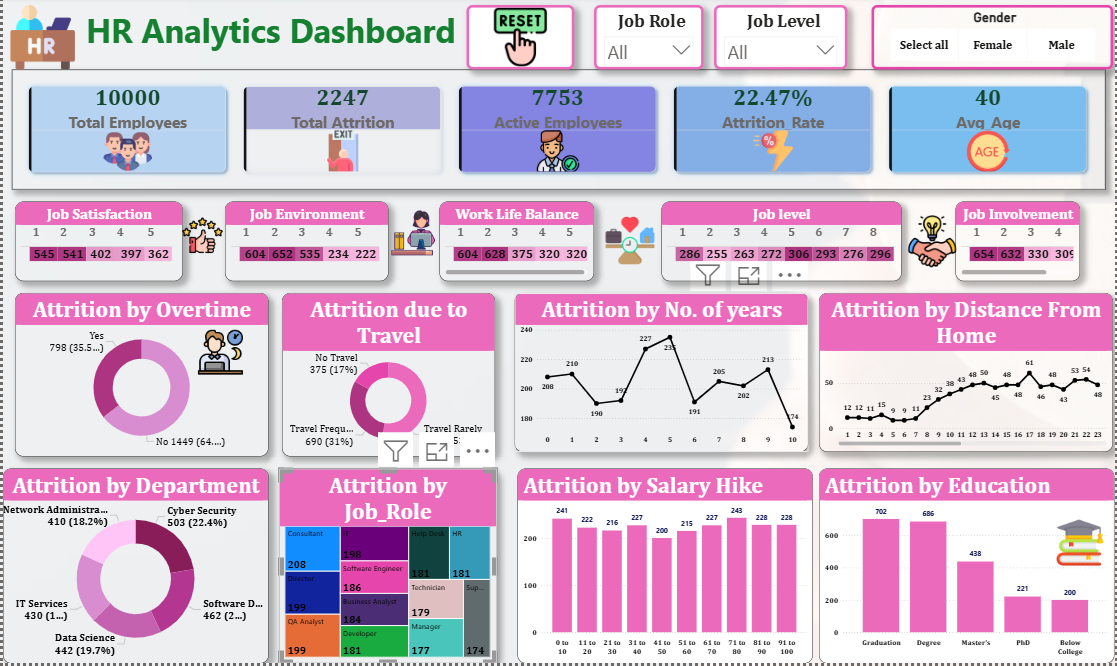

The dashboard page shown, as its layout file describes it:
{"tool":"powerbi","page":{"name":"Page 1","canvas":[2000,1200],"ordinal":0},"visuals":[{"type":"cardVisual","fields":{"Data":["CountNonNull(Employees.Employee_ID)","Employees.Attrition_YES","Employees.Attrition_NO","Employees.Attrition_Rate","Employees.Avg_Age"]},"box":[16.2,132.2,1967.4,215.9],"z":0},{"type":"donutChart","title":"Attrition by Department","fields":{"Category":["Employees.Department"],"Y":["Employees.Attrition_YES"]},"box":[0,850.1,477.7,350.8],"z":1000},{"type":"treemap","title":"Attrition by Job_Role","fields":{"Group":["Employees.Job_Role"],"Values":["Employees.Attrition_YES"]},"box":[496.6,850.1,391.3,350.8],"z":2000},{"type":"lineChart","title":"Attrition by Distance From Home","fields":{"Category":["Employees.Distance_From_Home"],"Y":["Employees.Attrition_YES"]},"box":[1468.1,534.3,528.9,286.1],"z":3000},{"type":"donutChart","title":"Attrition by Overtime","fields":{"Category":["Employees.Overtime"],"Y":["Employees.Attrition_YES"]},"box":[21.6,534.3,456.1,294.2],"z":4000},{"type":"pivotTable","title":"Job Satisfaction","fields":{"Columns":["Employees.Job_Satisfaction"],"Values":["Employees.Attrition_YES"]},"box":[21.6,369.7,302.3,143],"z":5000},{"type":"pivotTable","title":"Job Environment","fields":{"Values":["Employees.Attrition_YES"],"Columns":["Employees.Environemnt_Satisfaction"]},"box":[399.4,369.7,294.2,143],"z":6000},{"type":"pivotTable","title":"Work Life Balance","fields":{"Values":["Employees.Attrition_YES"],"Columns":["Employees.Work_life_balance"]},"box":[785.3,369.7,278,143],"z":7000},{"type":"lineChart","title":"Attrition by No. of  years","fields":{"Category":["Employees.No_of_years_in_current_role"],"Y":["Employees.Attrition_YES"]},"box":[920.3,534.3,528.9,286.1],"z":8000},{"type":"columnChart","title":"Attrition by Salary Hike","fields":{"Y":["Employees.Attrition_YES"],"Category":["Employees.Salary_Hike_in_percent (groups)"]},"box":[925.7,850.1,531.6,350.8],"z":9000},{"type":"columnChart","title":"Attrition by Education","fields":{"Y":["Employees.Attrition_YES"],"Category":["Employees.Education"]},"box":[1468.1,850.1,531.6,350.8],"z":10000},{"type":"pivotTable","title":"Job level","fields":{"Values":["Employees.Attrition_YES"],"Columns":["Employees.Job_Level"]},"box":[1184.7,369.7,431.8,143],"z":11000},{"type":"pivotTable","title":"Job Involvement","fields":{"Values":["Employees.Attrition_YES"],"Columns":["Employees.Job_Involvement"]},"box":[1713.7,369.7,224,143],"z":12000},{"type":"donutChart","title":"Attrition due to Travel ","fields":{"Y":["Employees.Attrition_YES"],"Category":["Employees.Business_Travel"]},"box":[502,534.3,383.2,294.2],"z":13000},{"type":"textbox","box":[97.2,16.2,769.1,94.5],"z":14000},{"type":"slicer","title":"Gender","fields":{"Values":["Employees.Gender"]},"box":[1562.6,16.2,434.5,116],"z":15000},{"type":"slicer","title":"Job Level","fields":{"Values":["Employees.Job_Level"]},"box":[1279.2,16.2,240.2,116],"z":16000},{"type":"slicer","title":"Job Role","fields":{"Values":["Employees.Job_Role"]},"box":[1063.3,16.2,197,116],"z":17000},{"type":"image","box":[0,16.2,143,116],"z":18000},{"type":"image","box":[1875.6,941.9,124.1,83.7],"z":19000},{"type":"image","box":[323.8,599.1,134.9,83.7],"z":20000},{"type":"image","box":[1063.3,391.3,129.5,97.2],"z":20001},{"type":"image","box":[240.2,394,237.5,72.9],"z":20002},{"type":"image","box":[588.3,385.9,299.6,81],"z":20003},{"type":"image","box":[1562.6,394,218.6,94.5],"z":20004},{"type":"image","box":[833.9,16.2,194.3,116],"z":20005}]}

Visuals, with their boxes in screenshot pixels (x1, y1, x2, y2), scaled from the page's 2000x1200 canvas onto the 1117x666 screenshot:
cardVisual - CountNonNull(Employees.Employee_ID) x Employees.Attrition_YES: bbox=(9, 73, 1108, 193)
"Attrition by Department" donutChart: bbox=(0, 472, 267, 665)
"Attrition by Job_Role" treemap: bbox=(277, 472, 496, 665)
"Attrition by Distance From Home" lineChart: bbox=(820, 297, 1115, 455)
"Attrition by Overtime" donutChart: bbox=(12, 297, 267, 460)
"Job Satisfaction" pivotTable: bbox=(12, 205, 181, 285)
"Job Environment" pivotTable: bbox=(223, 205, 387, 285)
"Work Life Balance" pivotTable: bbox=(439, 205, 594, 285)
"Attrition by No. of  years" lineChart: bbox=(514, 297, 809, 455)
"Attrition by Salary Hike" columnChart: bbox=(517, 472, 814, 665)
"Attrition by Education" columnChart: bbox=(820, 472, 1116, 665)
"Job level" pivotTable: bbox=(662, 205, 903, 285)
"Job Involvement" pivotTable: bbox=(957, 205, 1082, 285)
"Attrition due to Travel " donutChart: bbox=(280, 297, 494, 460)
textbox: bbox=(54, 9, 484, 61)
"Gender" slicer: bbox=(873, 9, 1115, 73)
"Job Level" slicer: bbox=(714, 9, 849, 73)
"Job Role" slicer: bbox=(594, 9, 704, 73)
image: bbox=(0, 9, 80, 73)
image: bbox=(1048, 523, 1116, 569)
image: bbox=(181, 333, 256, 379)
image: bbox=(594, 217, 666, 271)
image: bbox=(134, 219, 267, 259)
image: bbox=(329, 214, 496, 259)
image: bbox=(873, 219, 995, 271)
image: bbox=(466, 9, 574, 73)
